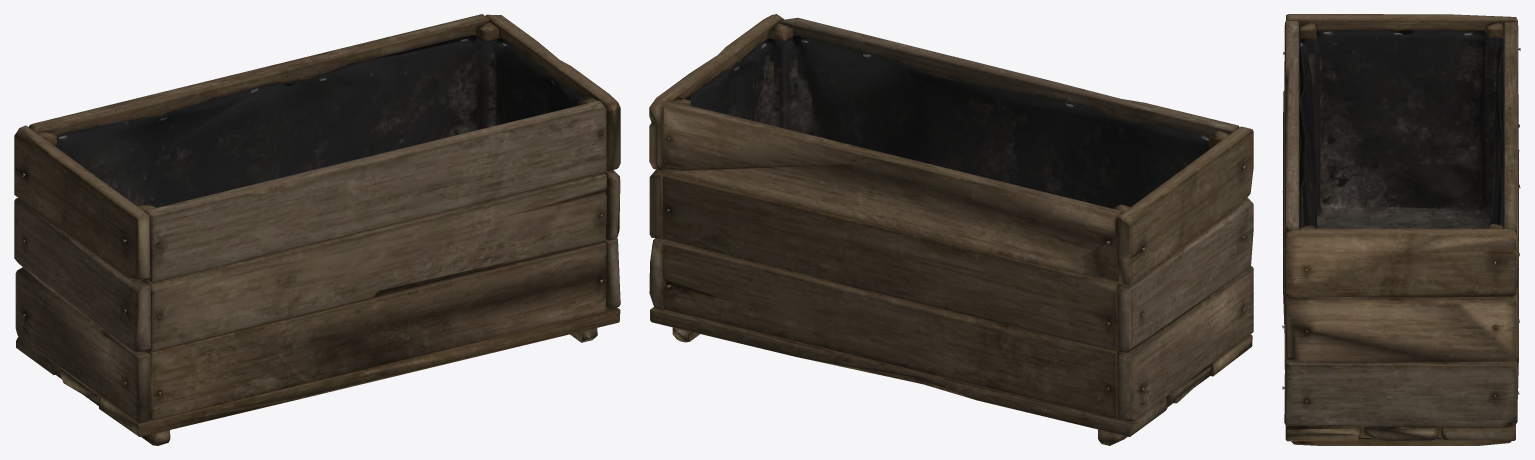
Rendered from planter_box_01.lite.glb.
3 views of the same model, side by side, from view 1: azimuth 30°, elevation 25°; view 2: azimuth 150°, elevation 25°; view 3: azimuth 270°, elevation 25° (orthographic). The views are drawn at different scales.
Parts seen in each view (by area): view 1: planter_box_01; view 2: planter_box_01; view 3: planter_box_01.
Part boxes in pixels (x1,y1,x2,y2): planter_box_01: [14, 14, 620, 445]; planter_box_01: [649, 14, 1253, 445]; planter_box_01: [1282, 14, 1520, 445].
Bounding box in the file's own units: 0.9126 × 0.425 × 0.4135.
1 material, 1 textured.
